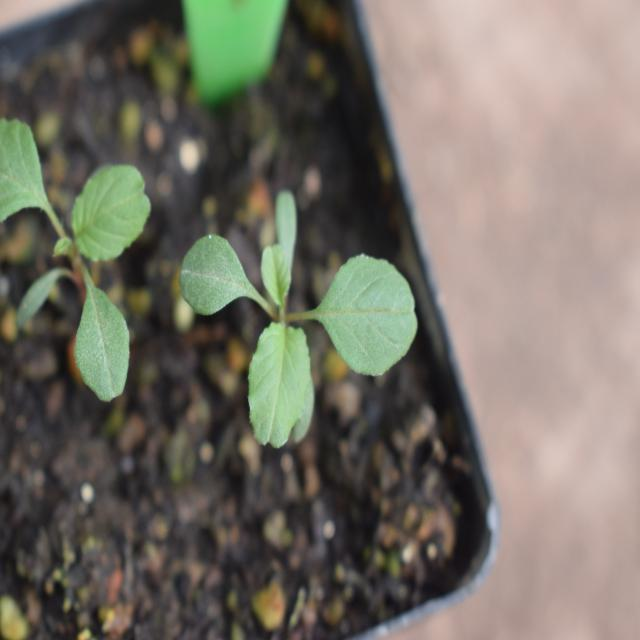pigweed: (156, 186, 414, 454)
